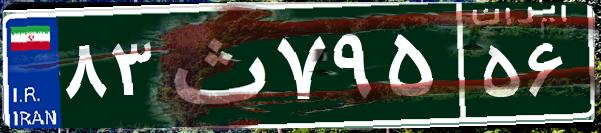3: (110, 28, 158, 105)
5: (385, 28, 445, 110), (475, 38, 525, 113)
6: (525, 38, 570, 115)
7: (273, 28, 330, 110)
8: (57, 26, 110, 107)
9: (330, 28, 385, 110)
ث: (158, 15, 273, 115)
